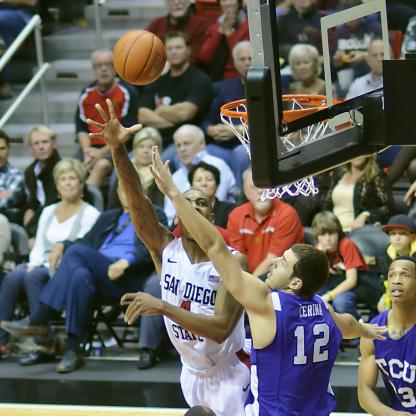Ball: (112, 29, 167, 85)
